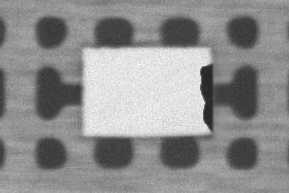DIE_BROKEN: (198, 60, 214, 131)
